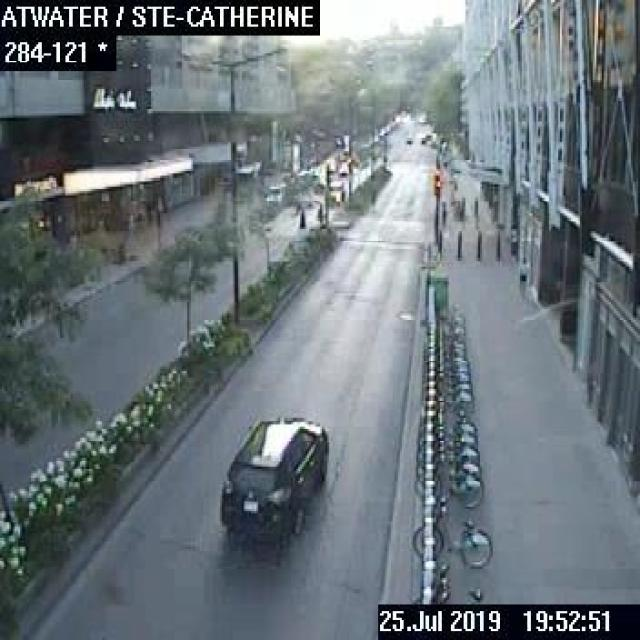pedestrian: (296, 204, 306, 229), (314, 203, 324, 221)
vehicle: (218, 413, 329, 540), (326, 179, 344, 200), (264, 182, 284, 200)
